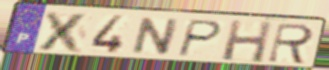4: (87, 14, 126, 55)
H: (220, 19, 275, 65)
N: (129, 16, 183, 56)
P: (174, 18, 225, 58)
R: (264, 22, 317, 66)
X: (34, 10, 93, 54)
